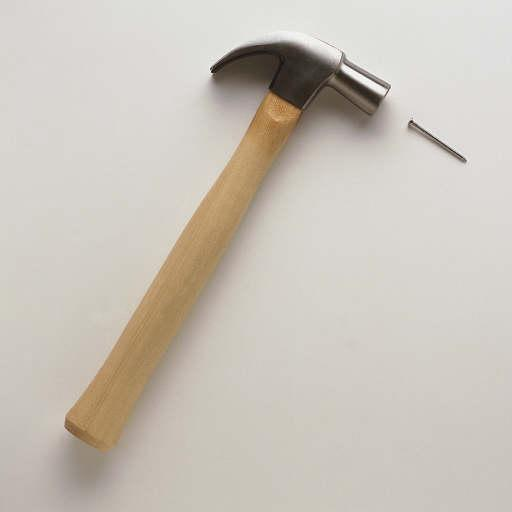hammer: (61, 29, 394, 449)
